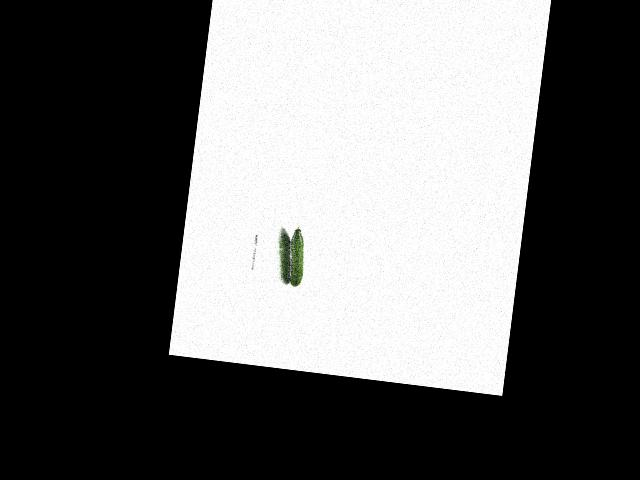cucumber: (285, 225, 308, 286)
